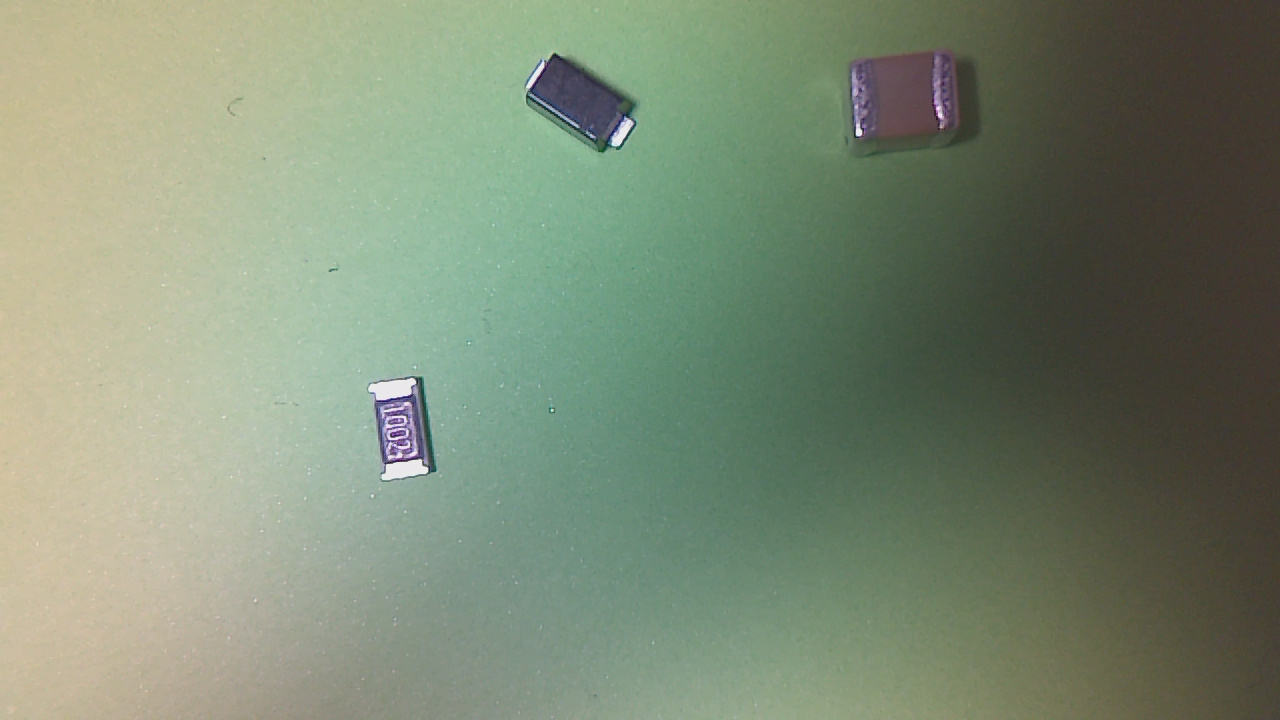Condensator: (848, 52, 966, 146)
Diode: (524, 54, 648, 158)
Resistor: (368, 381, 439, 488)
